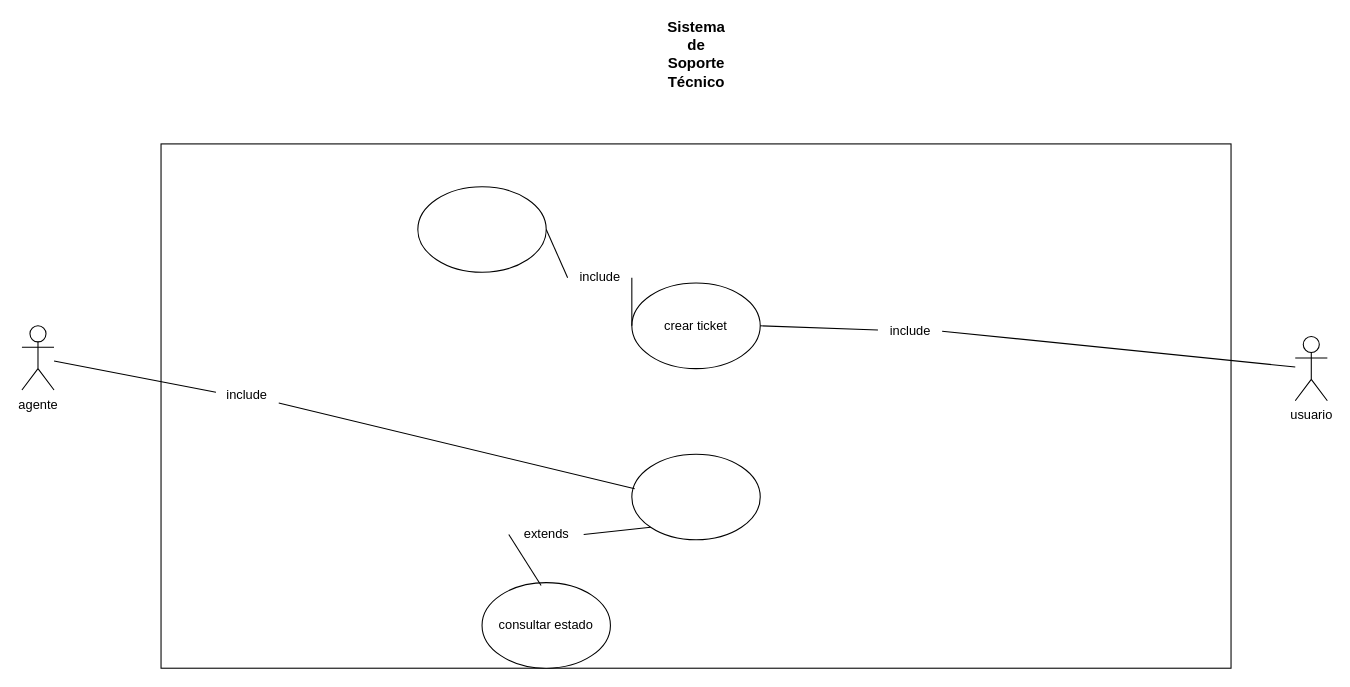
Image size: 1350x687. Some labels were removed from this diagram. Each missing label, with the centre of its shape:
"generar reporte" goes at [695,496].
"resolver ticket" goes at [481,229].
